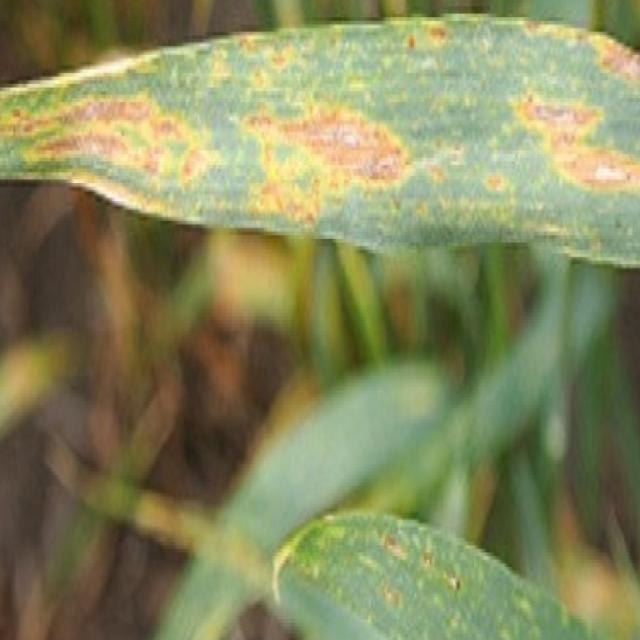wheat-septoria: (0, 13, 640, 271)
